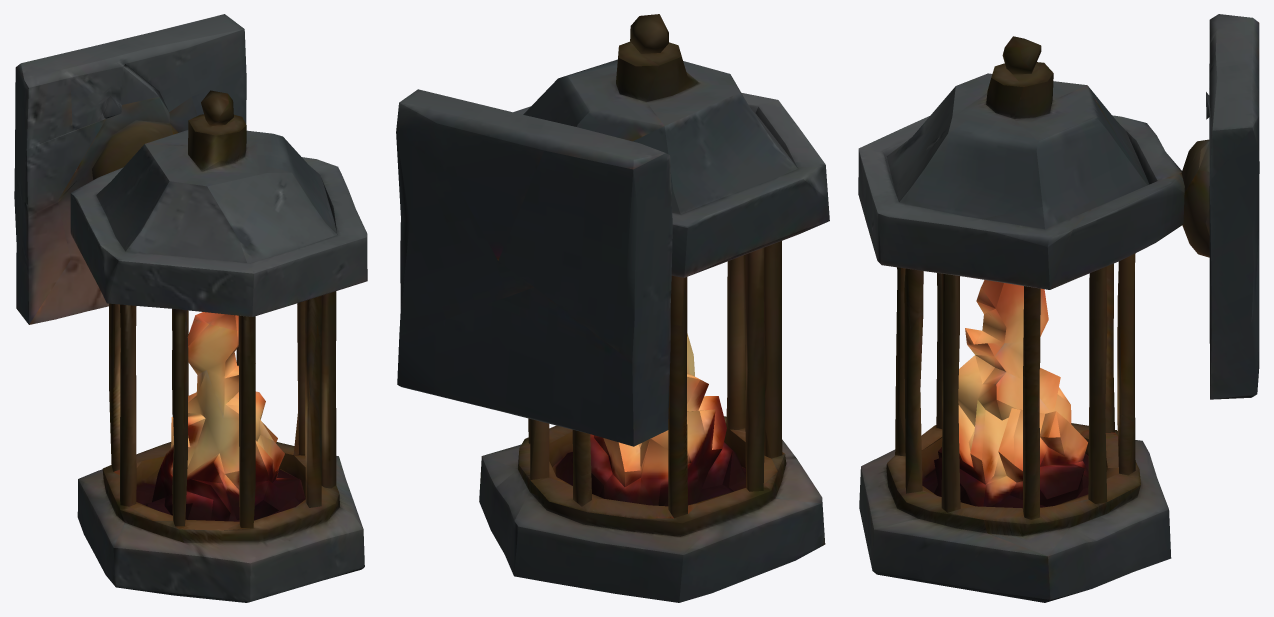
Rendered from m2StoneCageLantern.glb.
3 views of the same model, side by side, from view 1: azimuth 30°, elevation 25°; view 2: azimuth 150°, elevation 25°; view 3: azimuth 270°, elevation 25° (orthographic). The views are drawn at different scales.
Visible parts, largest first — view 1: model; view 2: model; view 3: model.
Part boxes in pixels (x1,y1,x2,y2): model: (14, 14, 367, 602); model: (396, 14, 829, 602); model: (858, 14, 1259, 602).
Size of the model in its own units: 1.19 by 1.9 by 1.4.
Materials: 1 (1 with a texture image).
